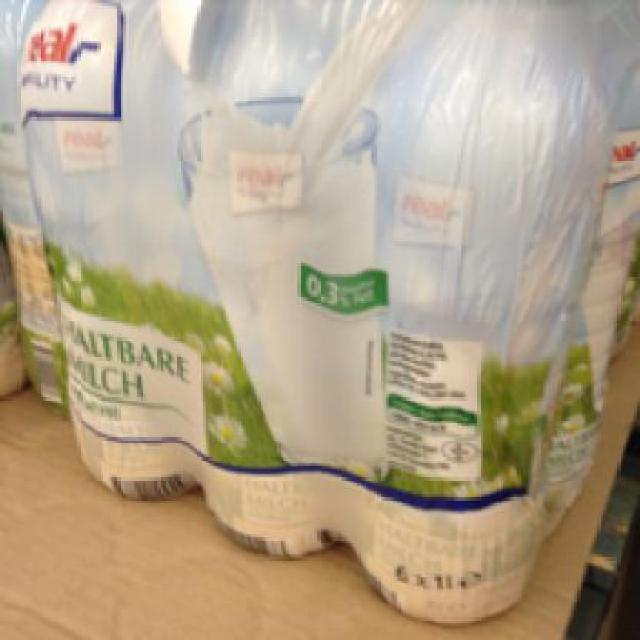Milk: (363, 0, 571, 623), (194, 0, 360, 555), (20, 11, 197, 507)
